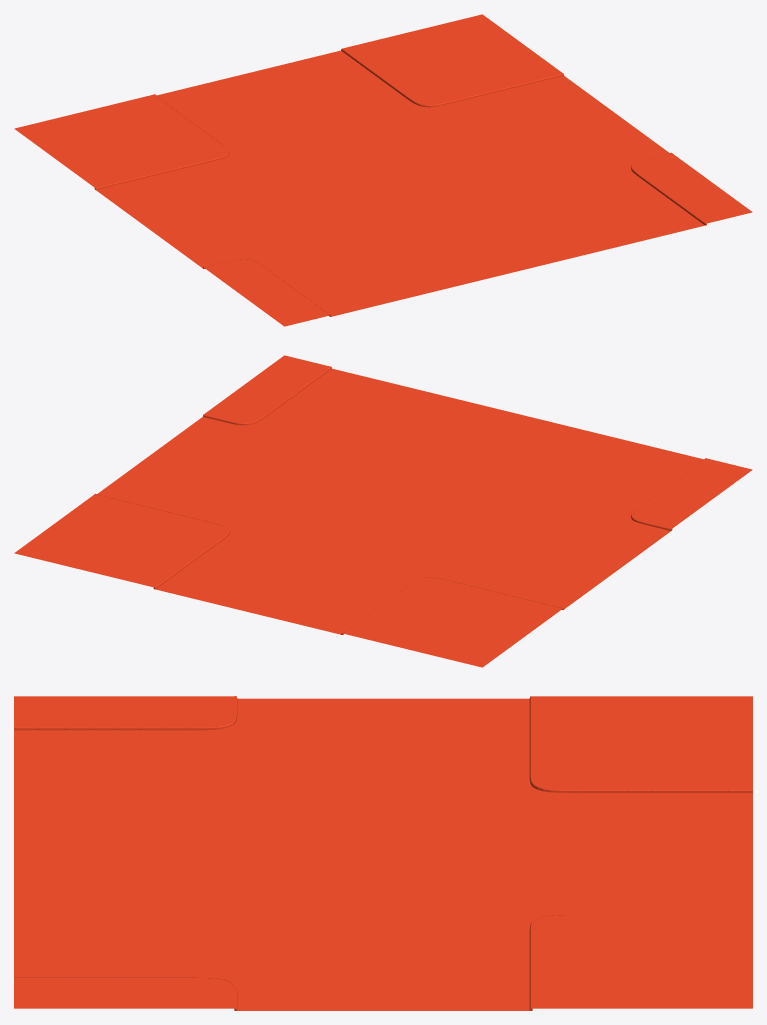
The model's file is SM_FreewayToMainroad_Cross_B_30x30_City.fbx.
3 renders of one model, top to bottom at view 1: azimuth 30°, elevation 25°; view 2: azimuth 150°, elevation 25°; view 3: azimuth 270°, elevation 25°, orthographic. The views are drawn at different scales.
Parts seen in each view (by area): view 1: SM_FreewayToMainroad_Cross_B_30x30_City; view 2: SM_FreewayToMainroad_Cross_B_30x30_City; view 3: SM_FreewayToMainroad_Cross_B_30x30_City.
Boxes of the visible parts, x1,y1,x2,y2 form: SM_FreewayToMainroad_Cross_B_30x30_City: (14,14,752,326); SM_FreewayToMainroad_Cross_B_30x30_City: (14,355,752,667); SM_FreewayToMainroad_Cross_B_30x30_City: (14,696,752,1010).
Size of the model in its own units: 30 by 0.1084 by 30.
